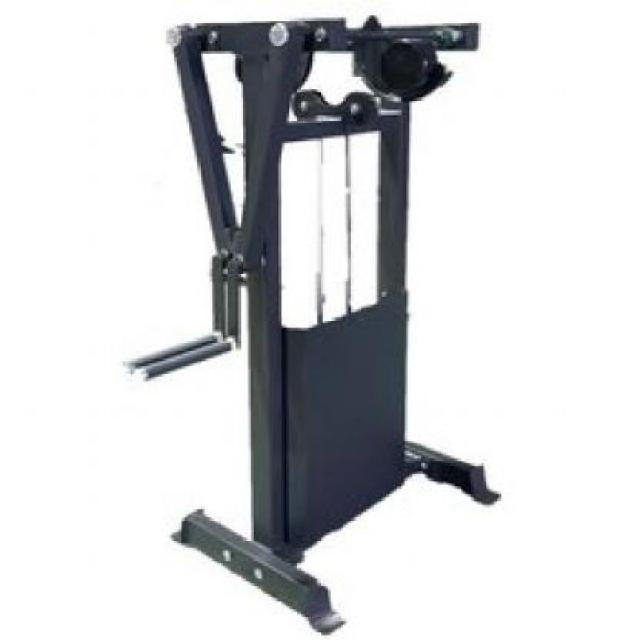lateral raises machine: (122, 15, 503, 628)
